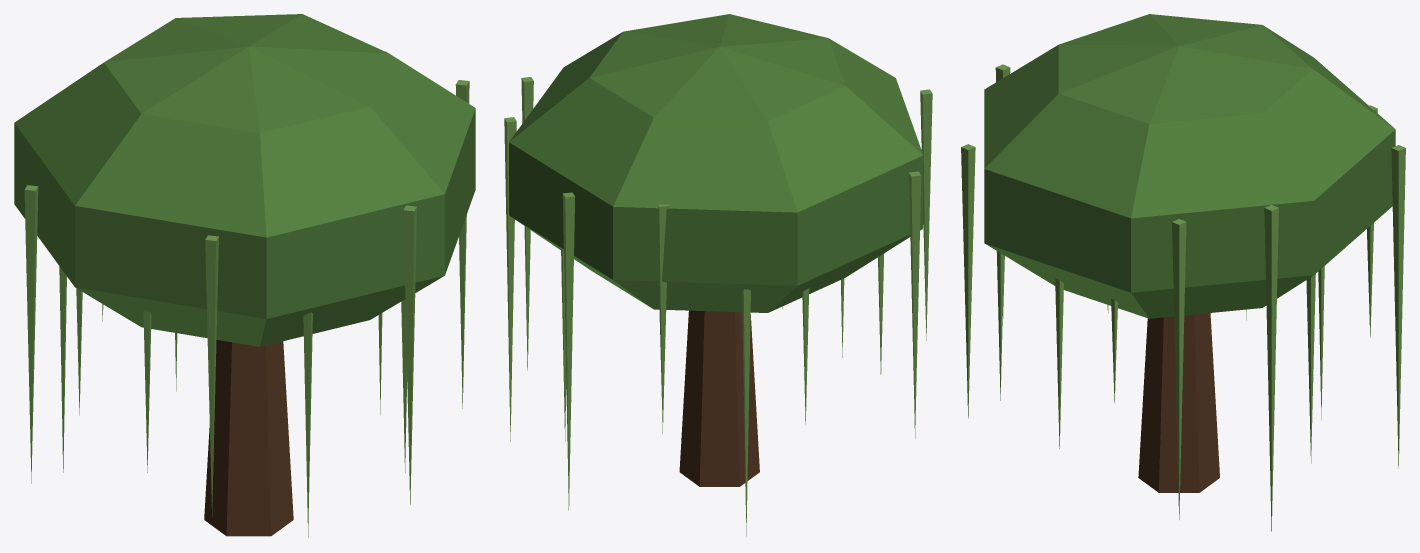
The model's file is br_willow_a.glb.
The picture shows the model from 3 angles, left to right: view 1: azimuth 30°, elevation 25°; view 2: azimuth 150°, elevation 25°; view 3: azimuth 270°, elevation 25°; orthographic projection. The views are drawn at different scales.
Visible parts, largest first — view 1: br_willow_a; view 2: br_willow_a; view 3: br_willow_a.
Boxes of the visible parts, x1,y1,x2,y2 form: br_willow_a: (14,14,475,537); br_willow_a: (504,14,932,536); br_willow_a: (961,14,1405,531).
Bounding box in the file's own units: 3.21 × 3.27 × 3.05.
